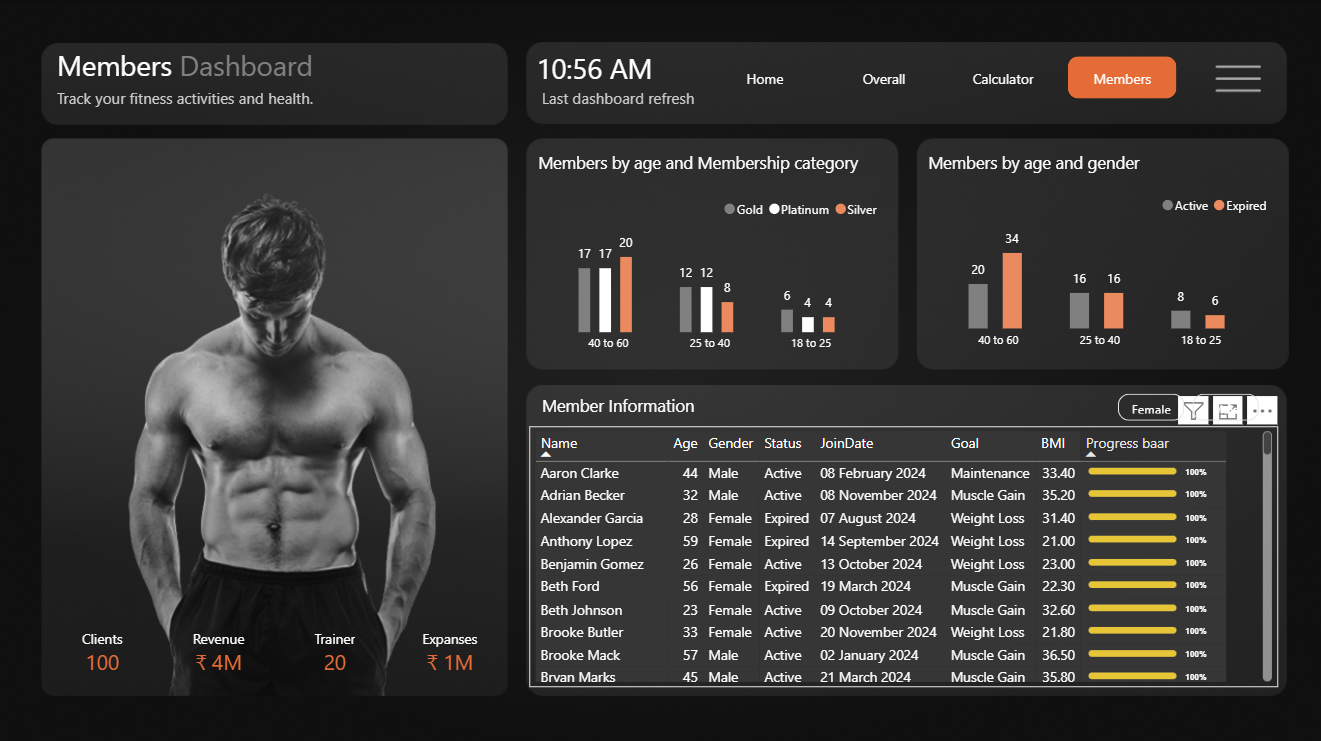

This screenshot's page, from the dashboard's own definition file:
{"tool":"powerbi","page":{"name":"Members","canvas":[1280,720],"ordinal":3},"visuals":[{"type":"cardVisual","fields":{"Data":["_Measure.Users_Count"]},"box":[50.9,582.2,100,80],"z":0},{"type":"cardVisual","fields":{"Data":["_Measure.Revenue"]},"box":[162.8,582.2,100,80],"z":1000},{"type":"cardVisual","fields":{"Data":["_Measure.Trainer"]},"box":[274.6,582.2,100,80],"z":2000},{"type":"cardVisual","fields":{"Data":["_Measure.Expanses"]},"box":[386.5,582.2,100,80],"z":3000},{"type":"textbox","box":[51.7,40,273.3,51.7],"z":4000},{"type":"textbox","box":[51.7,80,273.3,30],"z":5000},{"type":"image","box":[1161.7,45,73.3,65],"z":6000},{"type":"shape","box":[516.7,45,158.3,46.7],"z":7000},{"type":"textbox","box":[520,80,273.3,30],"z":8000},{"type":"tableEx","fields":{"Values":["Users.UserName","Sum(Users.Age)","Users.Gender","Users.Status","Users.JoinDate","Users.Goal","Sum(Users.BMI)","_Measure.SVG_BarChart1"]},"box":[513.3,411.7,721.7,251.7],"z":10000},{"type":"textbox","box":[520,375,218.3,36.7],"z":11000},{"type":"advancedSlicerVisual","fields":{"Values":["Users.Gender"]},"box":[1076.7,375,146.7,36.7],"z":12000},{"type":"clusteredColumnChart","fields":{"Series":["Users.Membership"],"Category":["Users.Age Category"],"Y":["_Measure.Users_Count"]},"box":[516.7,181.7,341.7,166.7],"z":13000},{"type":"textbox","box":[516.7,141.7,341.7,36.7],"z":14000},{"type":"clusteredColumnChart","fields":{"Category":["Users.Age Category"],"Y":["_Measure.Users_Count"],"Series":["Users.Status"]},"box":[893.3,178.3,341.7,166.7],"z":15000},{"type":"textbox","box":[893.3,141.7,341.7,36.7],"z":16000},{"type":"pageNavigator","box":[687.1,54.1,451.7,41.4],"z":16001}]}

Visuals, with their boxes in screenshot pixels (x1, y1, x2, y2), scaled from the page's 1280x720 canvas onto the 1321x741 screenshot:
cardVisual - _Measure.Users_Count: bbox=(53, 599, 156, 682)
cardVisual - _Measure.Revenue: bbox=(168, 599, 271, 682)
cardVisual - _Measure.Trainer: bbox=(283, 599, 387, 682)
cardVisual - _Measure.Expanses: bbox=(399, 599, 502, 682)
textbox: bbox=(53, 41, 335, 94)
textbox: bbox=(53, 82, 335, 113)
image: bbox=(1199, 46, 1275, 113)
shape: bbox=(533, 46, 697, 94)
textbox: bbox=(537, 82, 819, 113)
tableEx - Users.UserName x Sum(Users.Age): bbox=(530, 424, 1275, 683)
textbox: bbox=(537, 386, 762, 424)
advancedSlicerVisual - Users.Gender: bbox=(1111, 386, 1263, 424)
clusteredColumnChart - Users.Membership x Users.Age Category: bbox=(533, 187, 886, 359)
textbox: bbox=(533, 146, 886, 184)
clusteredColumnChart - Users.Age Category x _Measure.Users_Count: bbox=(922, 184, 1275, 355)
textbox: bbox=(922, 146, 1275, 184)
pageNavigator: bbox=(709, 56, 1175, 98)
